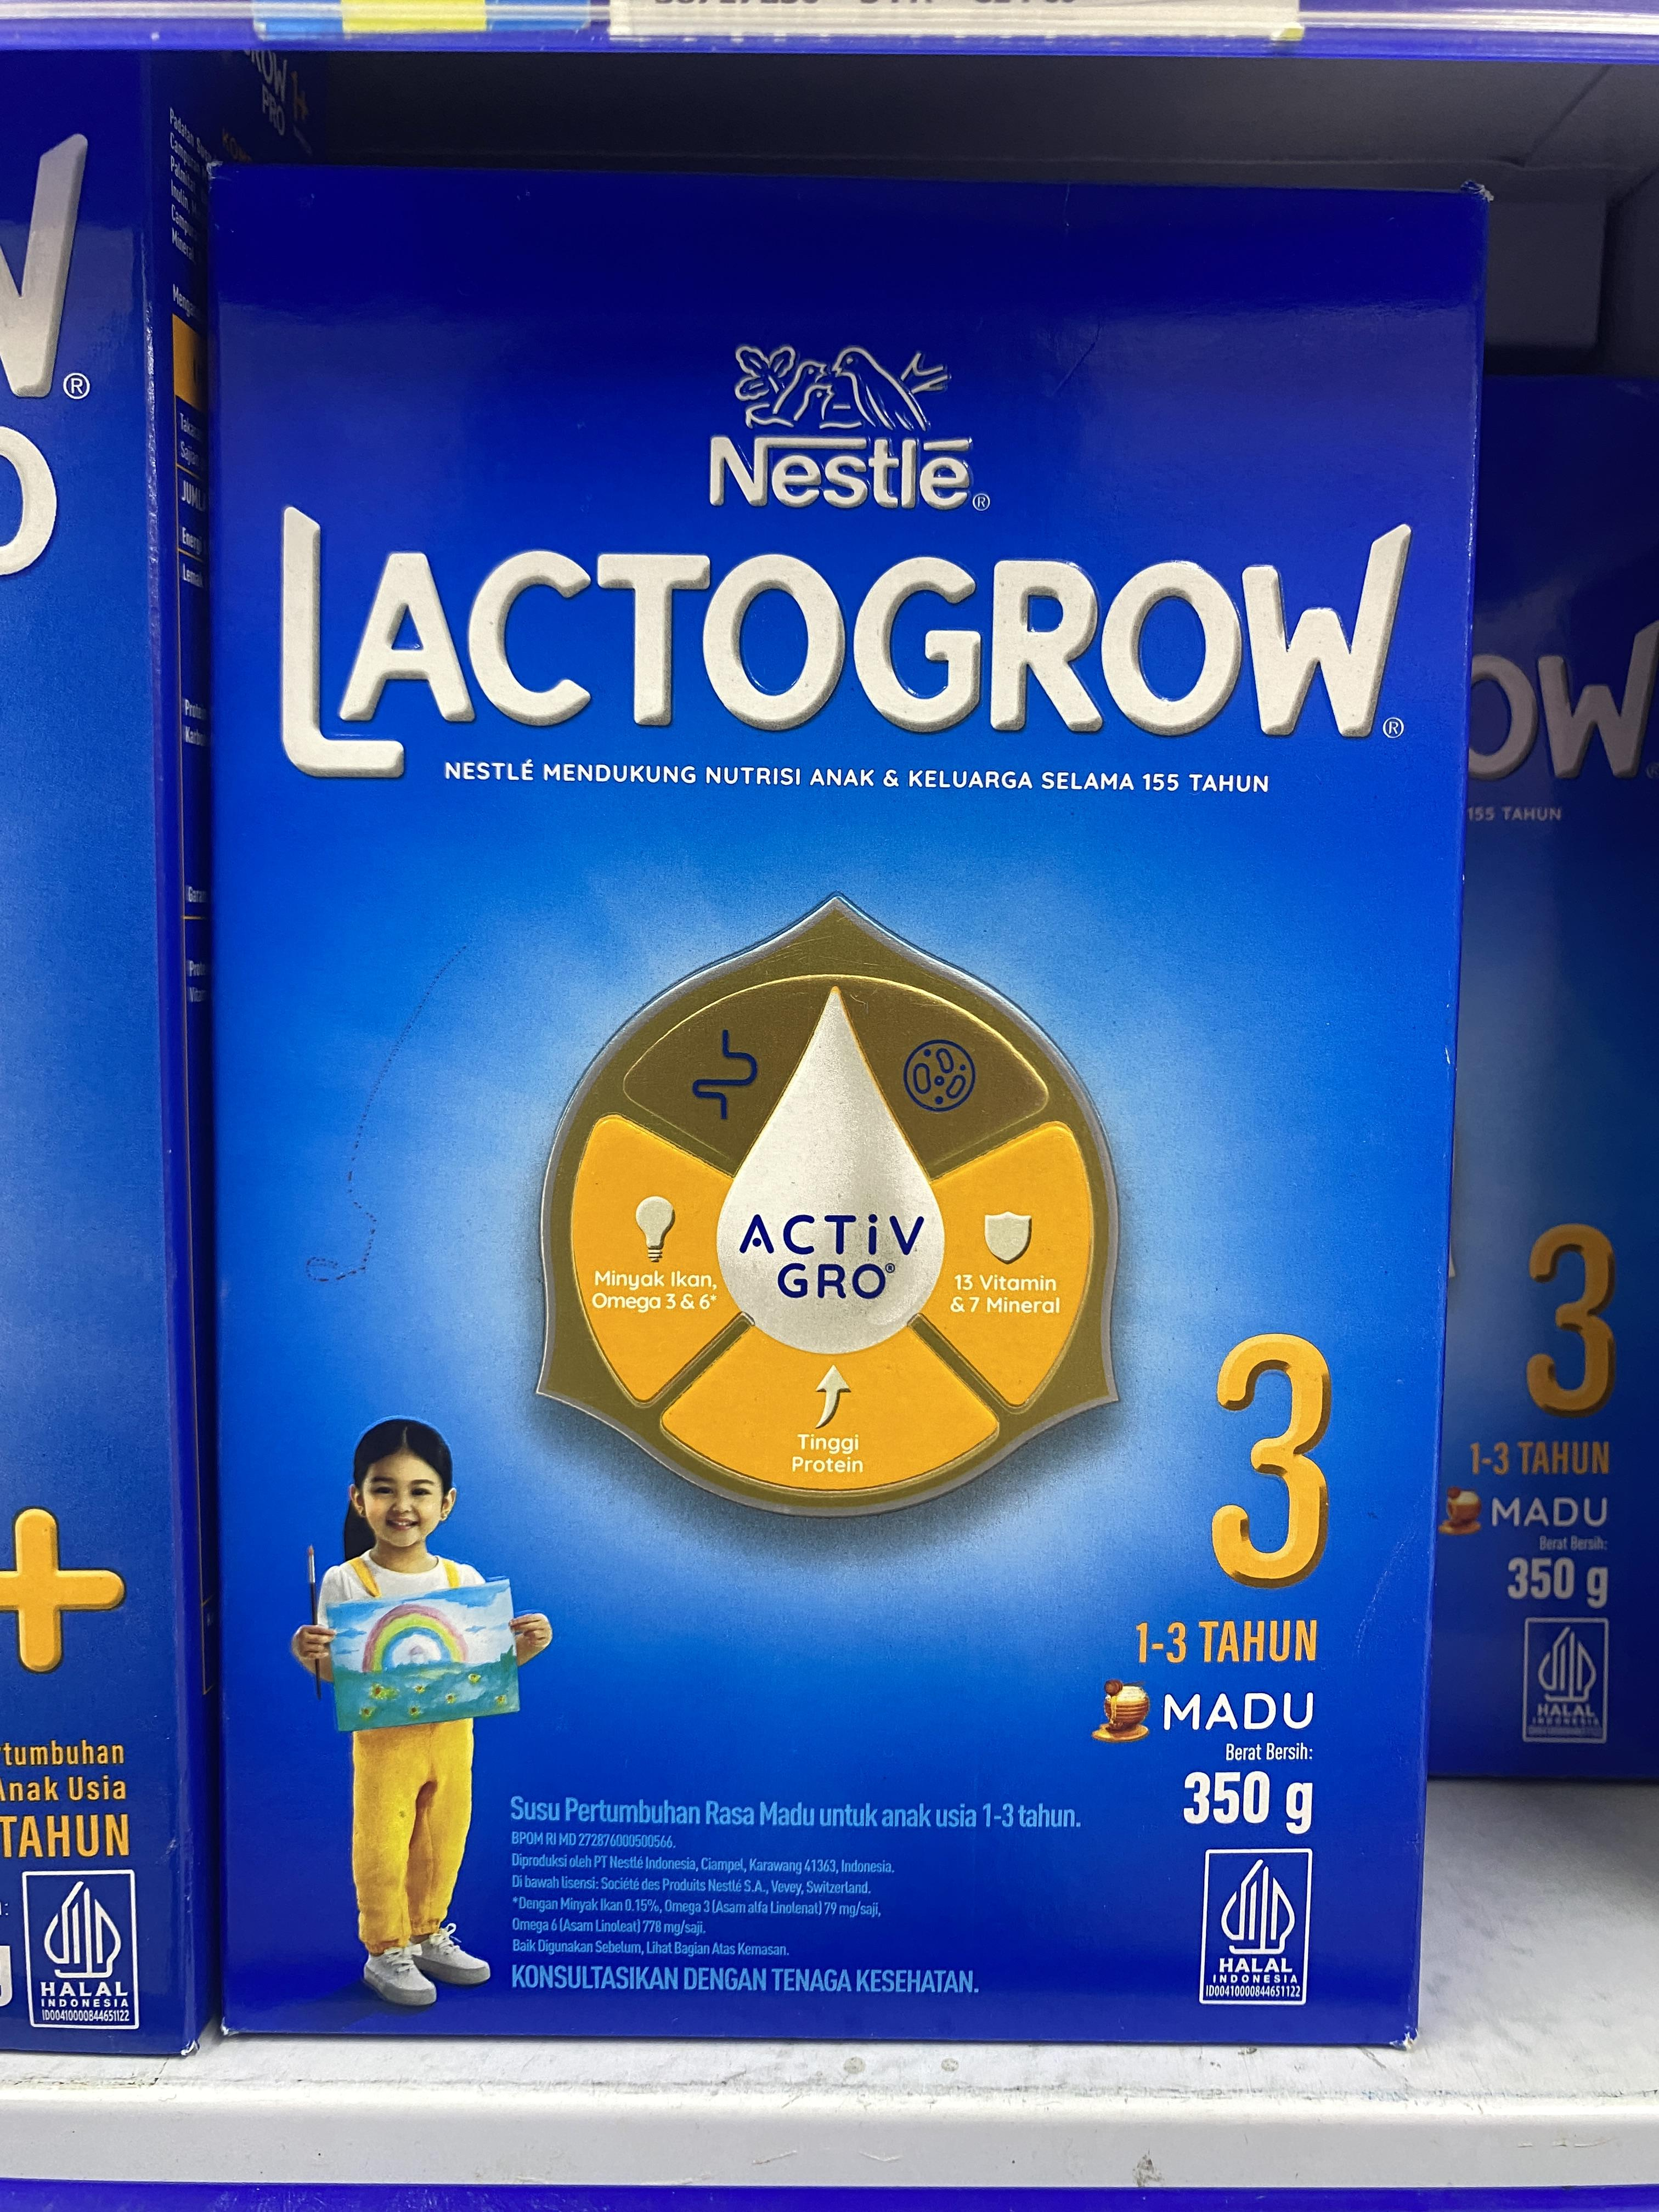LACTOGEN PRO 6-12 mo 24x350g ID: (209, 162, 1490, 2043)
